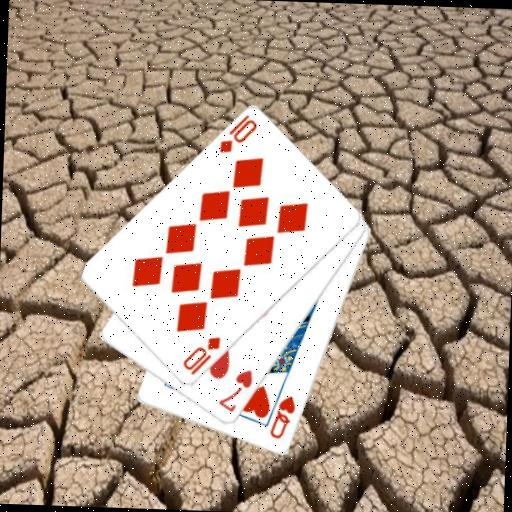10D: (178, 333, 222, 378), (216, 111, 260, 156)
7H: (215, 365, 255, 415)
QH: (266, 392, 297, 441)
